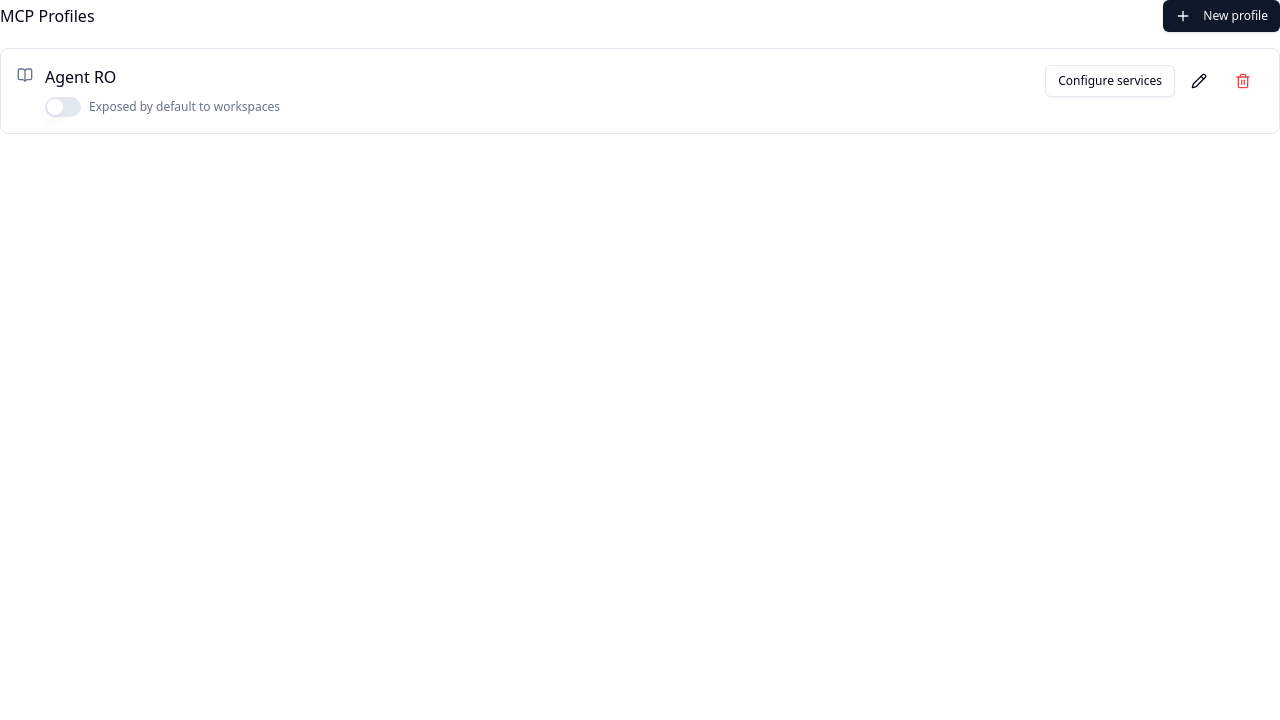
Test: MCPProfiles — presets de tools › le bouton "Read-only" est absent si aucun tool du catalogue n'a scope=read
What coordinates should you click on to do the following:
click the button "Configure services"
I would click on:
 (1110, 81)
Its box is [1045, 65, 1175, 97].
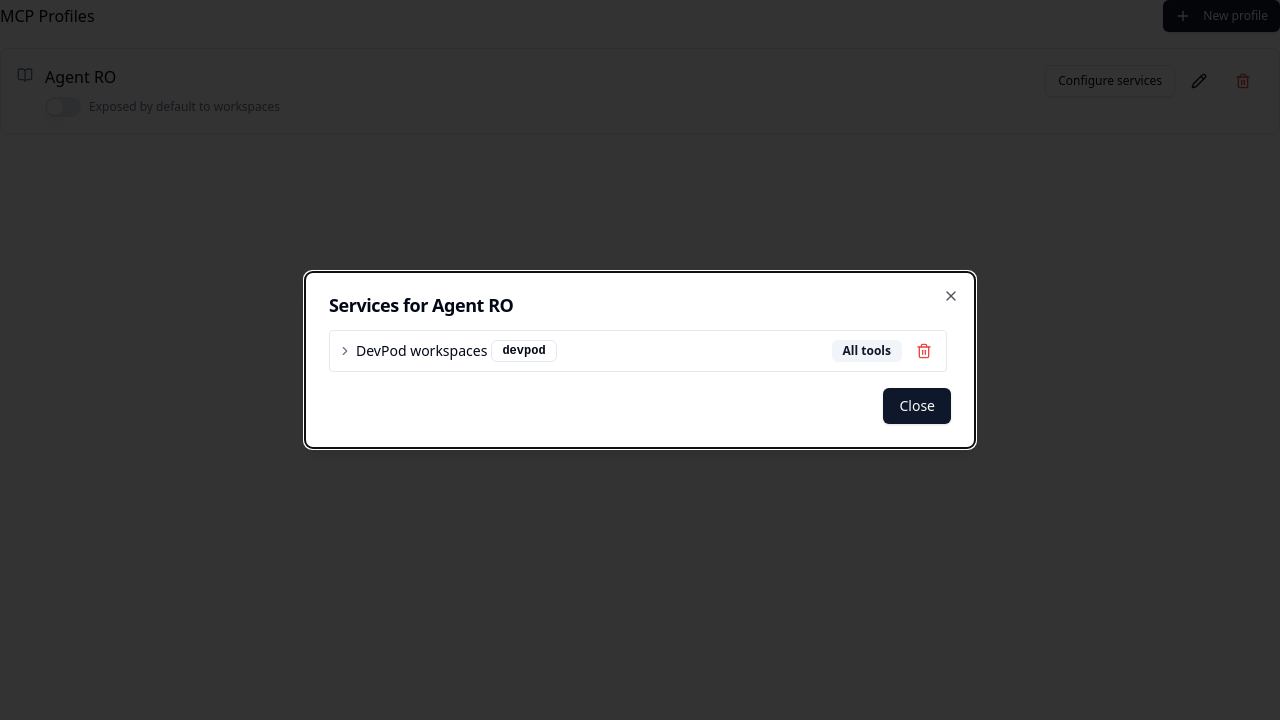
What coordinates should you click on to do the following:
click the text "DevPod workspaces"
I would click on:
 (422, 351)
Its box is [356, 341, 487, 361].
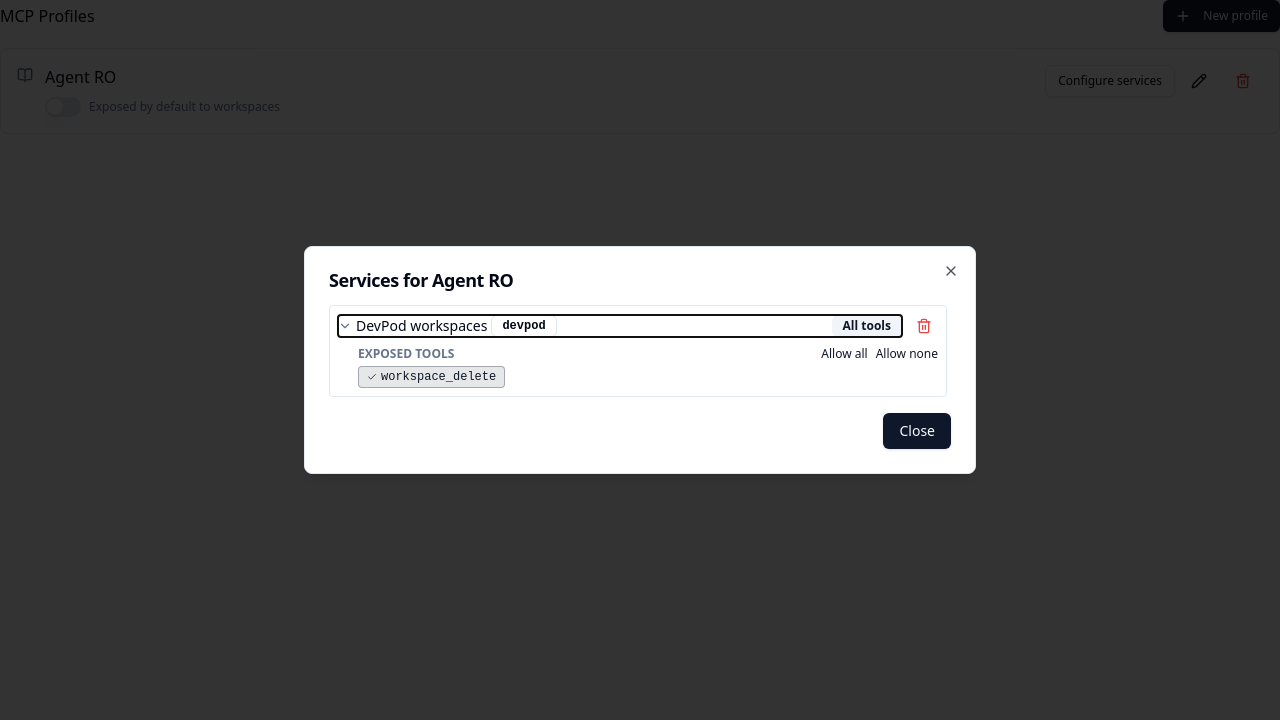
Expected: the button "Allow all" is shown, [821, 346, 868, 362]
